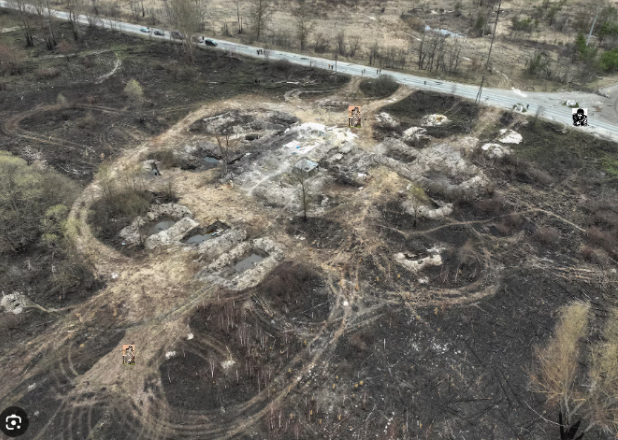HVT1: (572, 108, 587, 126), (126, 346, 135, 367), (352, 107, 361, 127)
